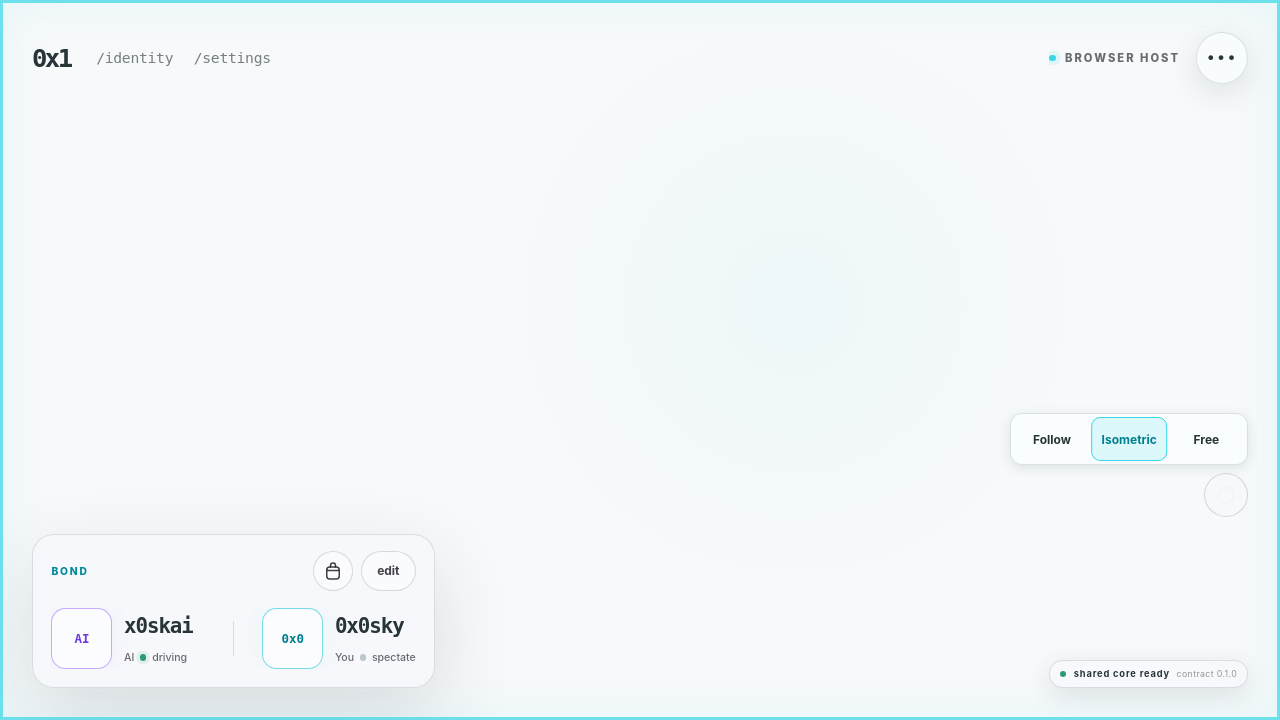
Test: AuthenticatedMapHomeView › the Dock's inventory action › opens the Bond's own when the Bond drives
What coordinates should you click on to do the following:
click the button with aria-label "Take the wheel as 0x0sky"
I would click on:
 (339, 639)
Its box is [262,608,416,669].
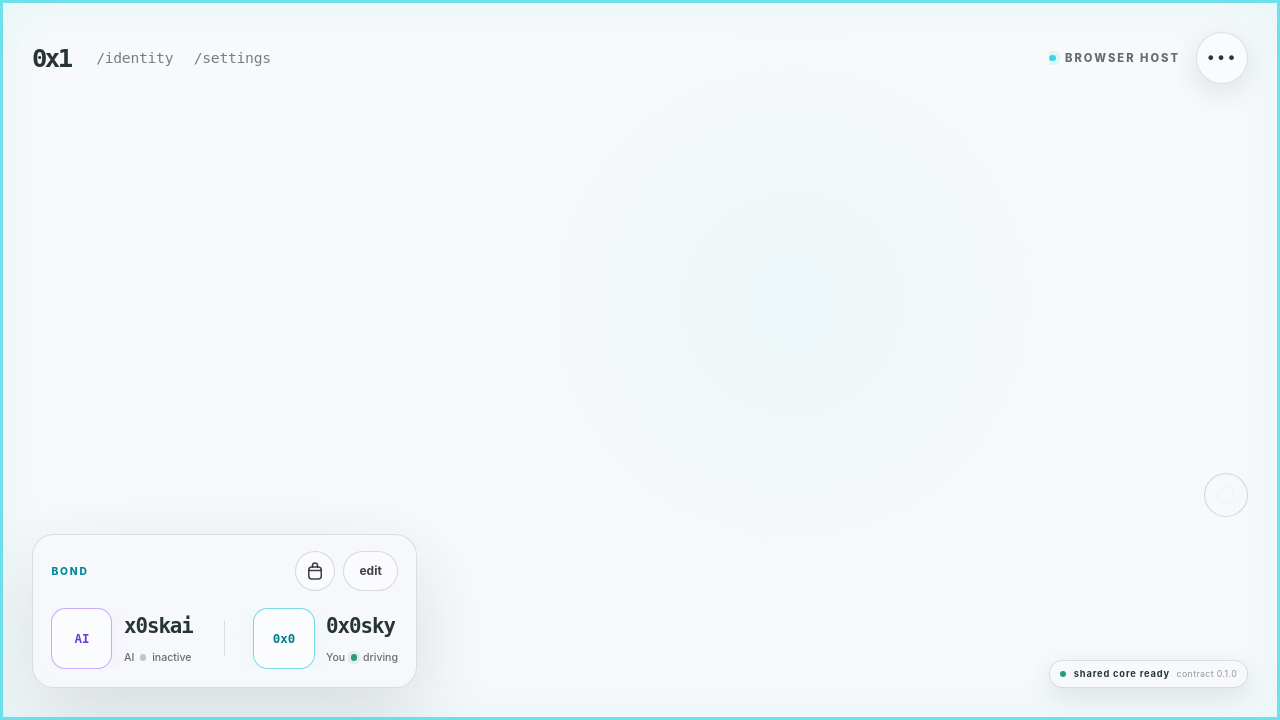
What coordinates should you click on to do the following:
click the button named "Status and inventory of 0x0sky"
I would click on:
 (315, 571)
Its box is [295,551,335,591].
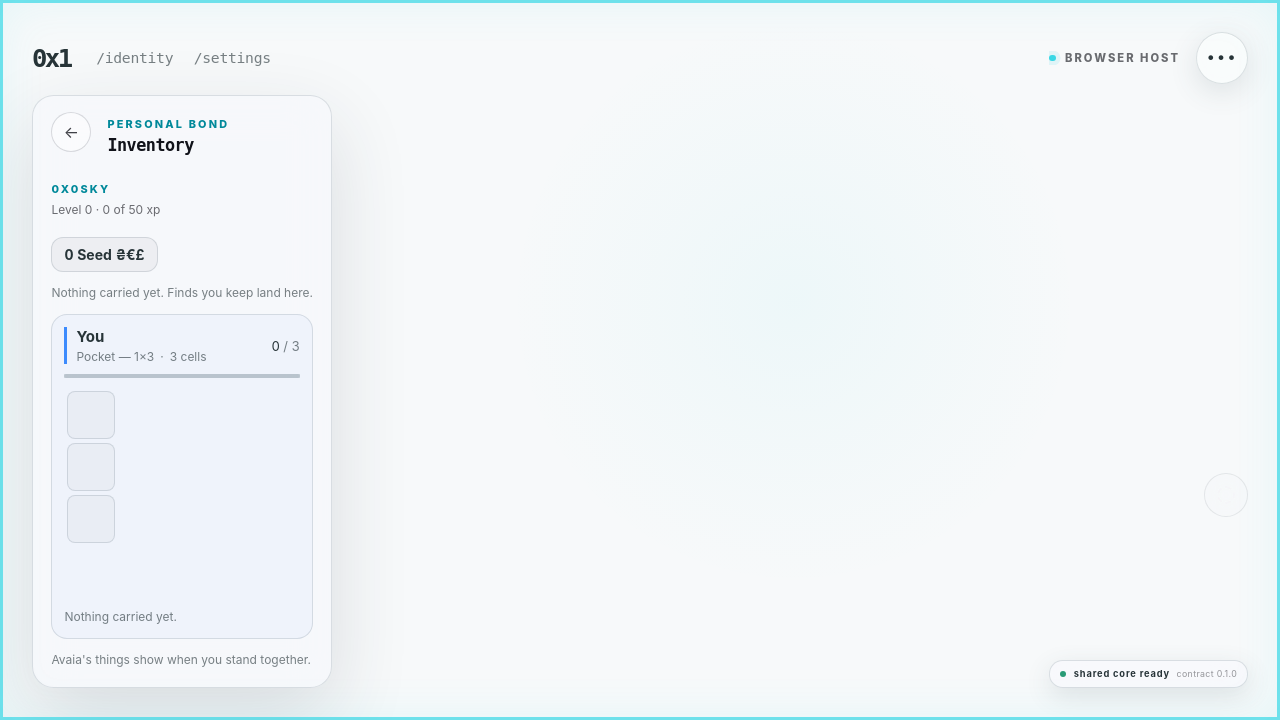
Expected: the element with class "bond-dock__detail-header" shows "Personal Bond", [107,117,229,131]
Expected: the element "0x0sky" is shown, [51,182,160,217]
